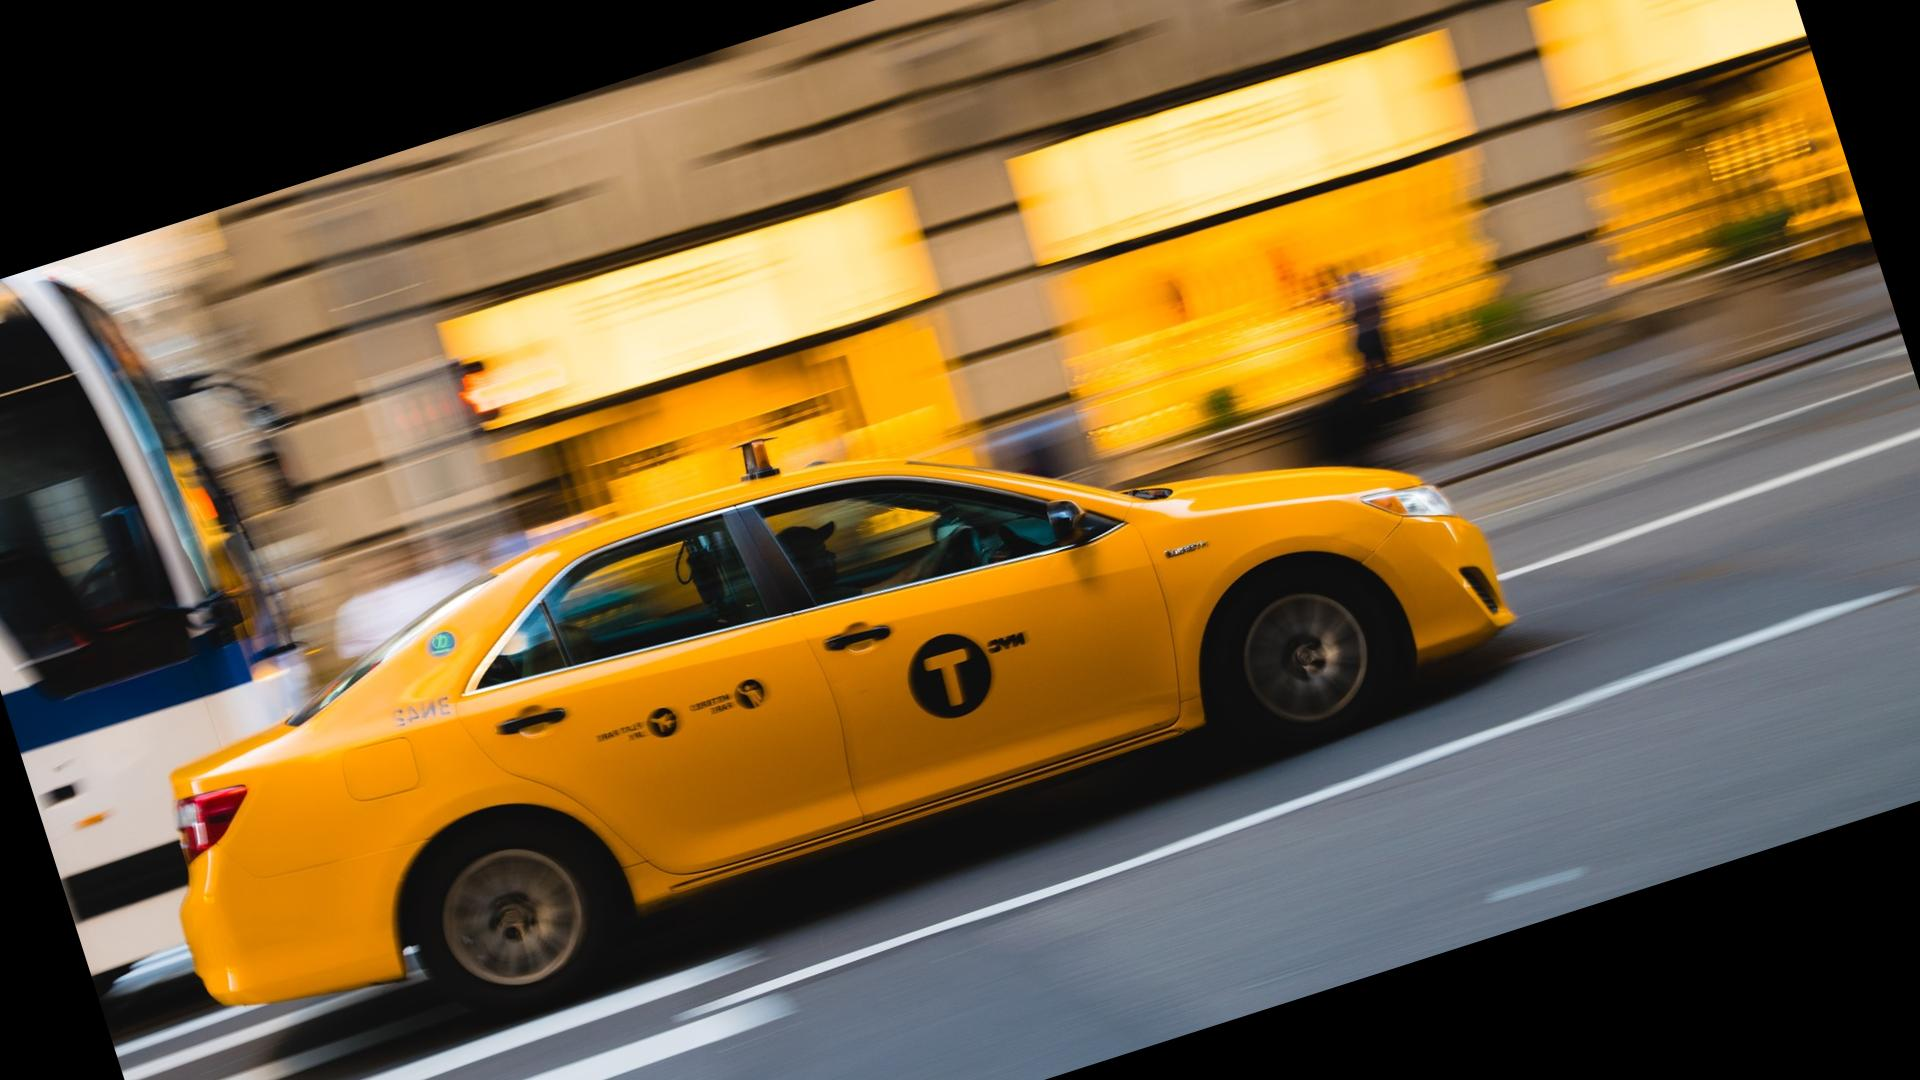taxi: (170, 423, 1526, 1017)
